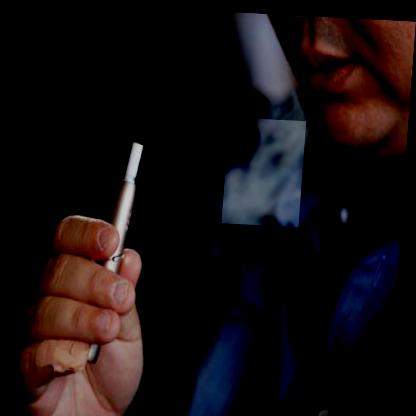smoke: (225, 115, 308, 224)
